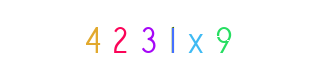2: (79, 0, 159, 80)
3: (110, 0, 190, 80)
4: (54, 0, 134, 80)
9: (183, 0, 263, 80)
L: (125, 0, 205, 80)
X: (147, 0, 227, 80)
